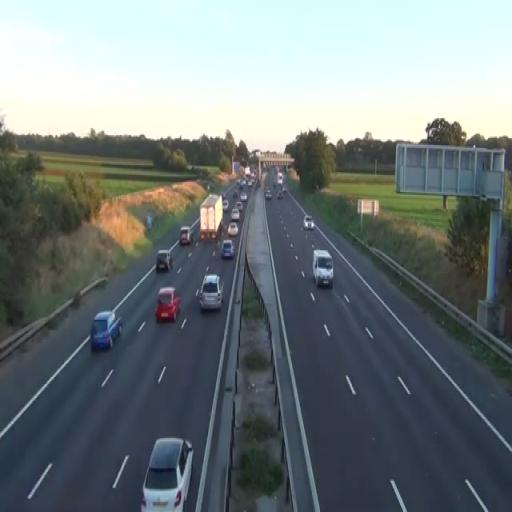Car: (141, 436, 194, 511), (90, 310, 122, 351), (198, 274, 224, 312), (155, 286, 181, 323), (312, 249, 334, 289), (156, 250, 173, 272), (221, 240, 234, 260), (302, 216, 314, 230), (228, 221, 238, 237)
Truck: (199, 194, 223, 241)
